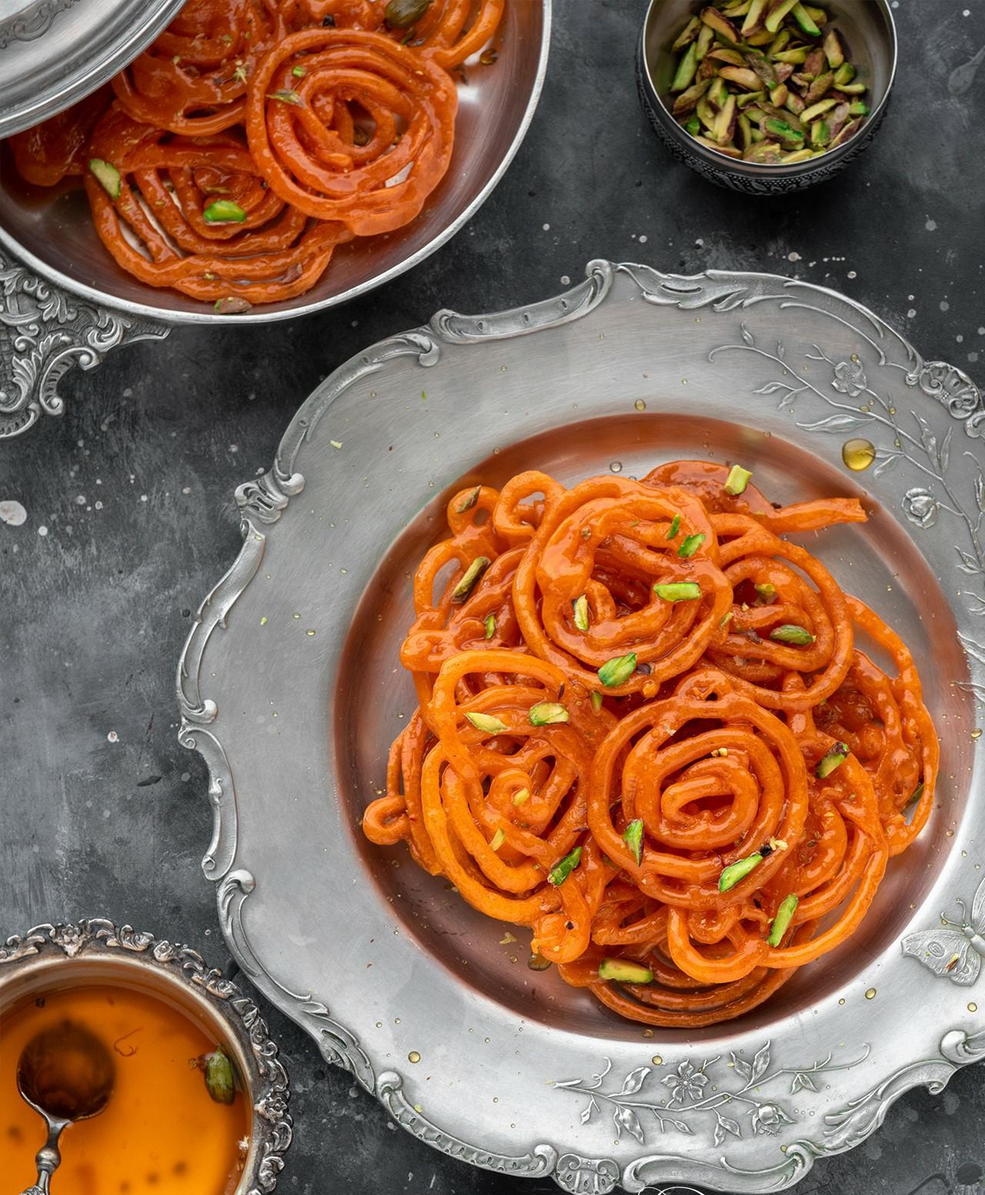Jalebi: (363, 442, 949, 1031), (0, 1, 504, 302)
